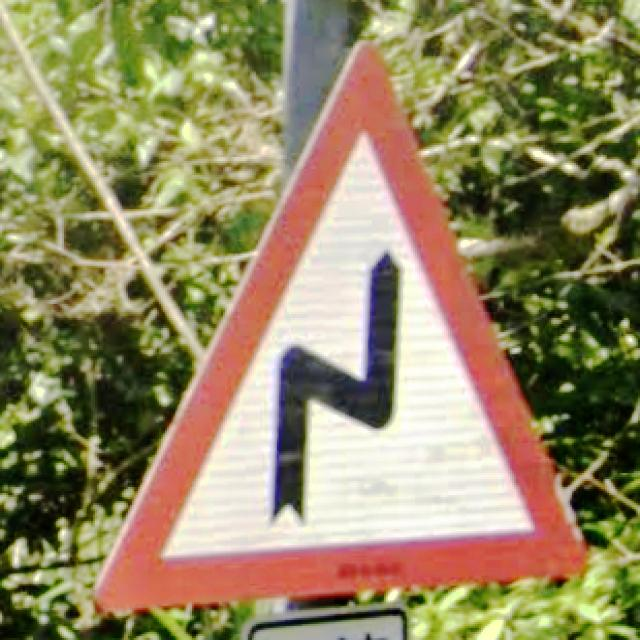doublebendright: (93, 42, 588, 614)
